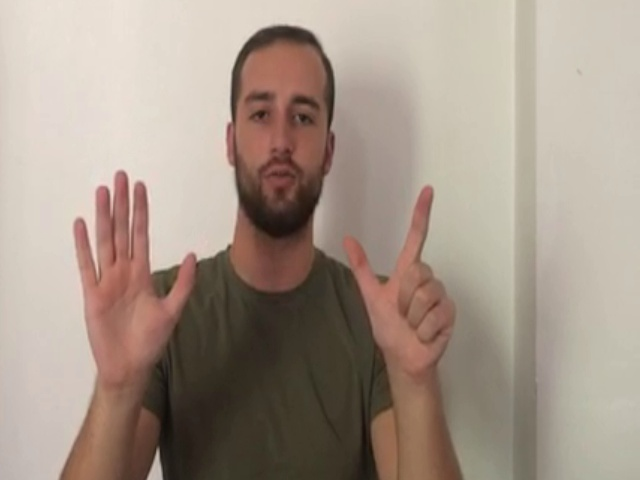Pet i Sedumnaeset: (69, 166, 463, 386)
